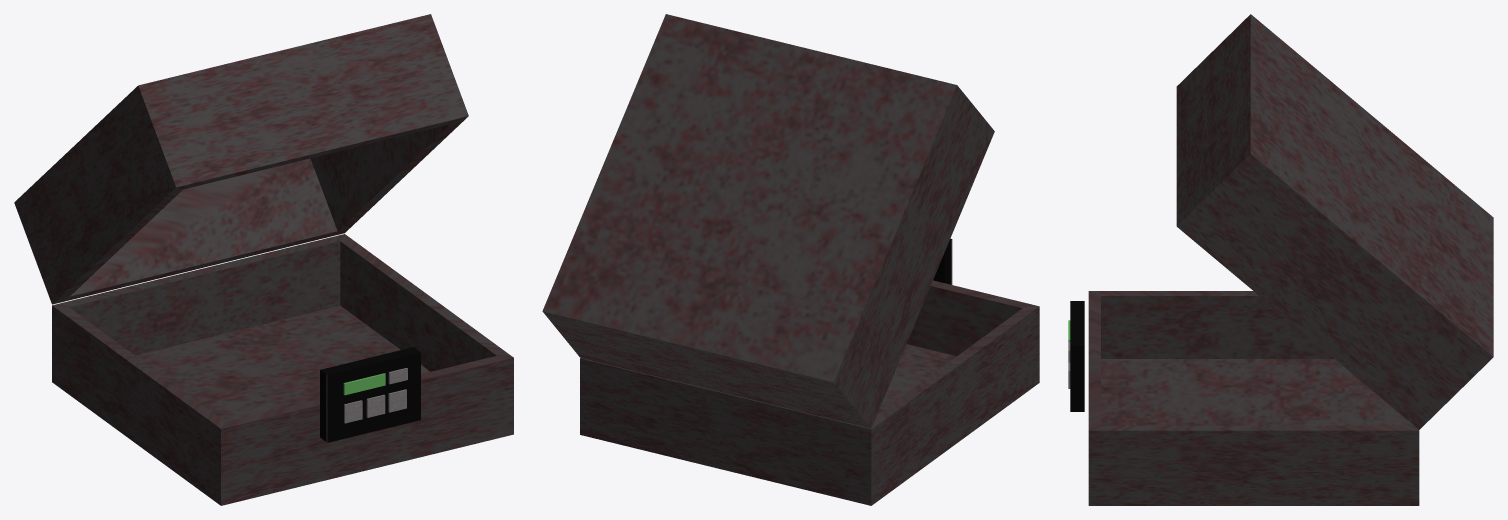
The model's file is Caja_Textured.fbx.
3 renders of one model, left to right at view 1: azimuth 30°, elevation 25°; view 2: azimuth 150°, elevation 25°; view 3: azimuth 270°, elevation 25°, orthographic. The views are drawn at different scales.
Parts seen in each view (by area): view 1: CajaBot, CajaTop, Panel, Pantalla; view 2: CajaTop, CajaBot; view 3: CajaTop, CajaBot, Panel.
Boxes of the visible parts, bbox=[...] form: CajaBot: bbox=[52, 234, 513, 505]; CajaTop: bbox=[14, 14, 468, 304]; Panel: bbox=[320, 347, 420, 442]; Pantalla: bbox=[343, 373, 385, 395]; CajaTop: bbox=[542, 14, 994, 428]; CajaBot: bbox=[580, 280, 1039, 505]; CajaTop: bbox=[1176, 14, 1493, 429]; CajaBot: bbox=[1088, 291, 1419, 505]; Panel: bbox=[1070, 301, 1084, 411].
Bounding box in the file's own units: 200 × 235 × 257.
4 materials, 3 textured.
